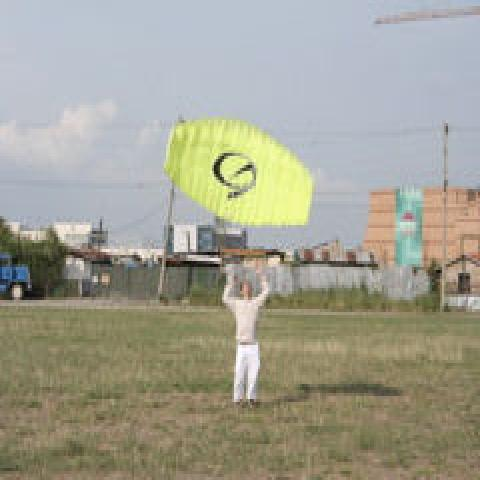truck: (0, 253, 33, 303)
